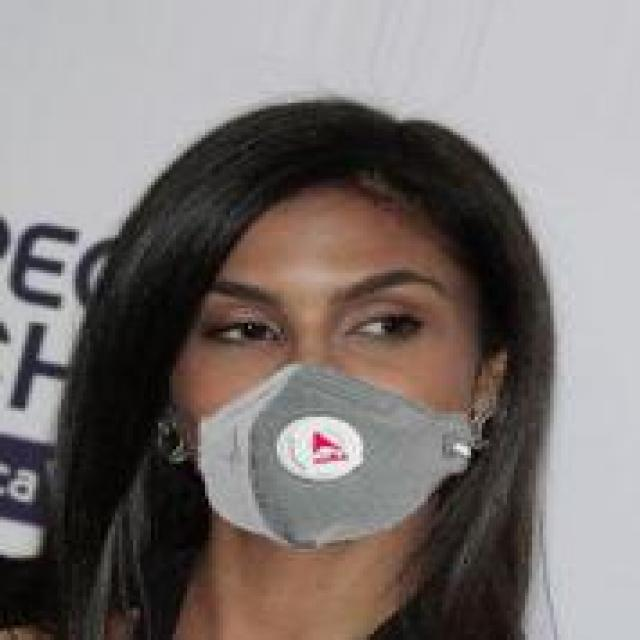mask: (90, 67, 564, 578)
